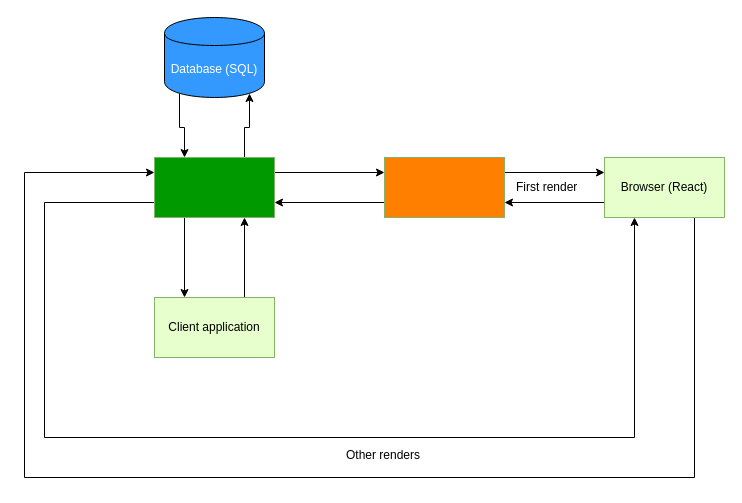
Some shapes in this 742 by 503 pixel diagram are drawn without their labels. Each missing label, with the centre of its shape:
"Page render service (React + Next.js)" belongs at (444,187).
"REST API service (Django)" belongs at (214,187).
